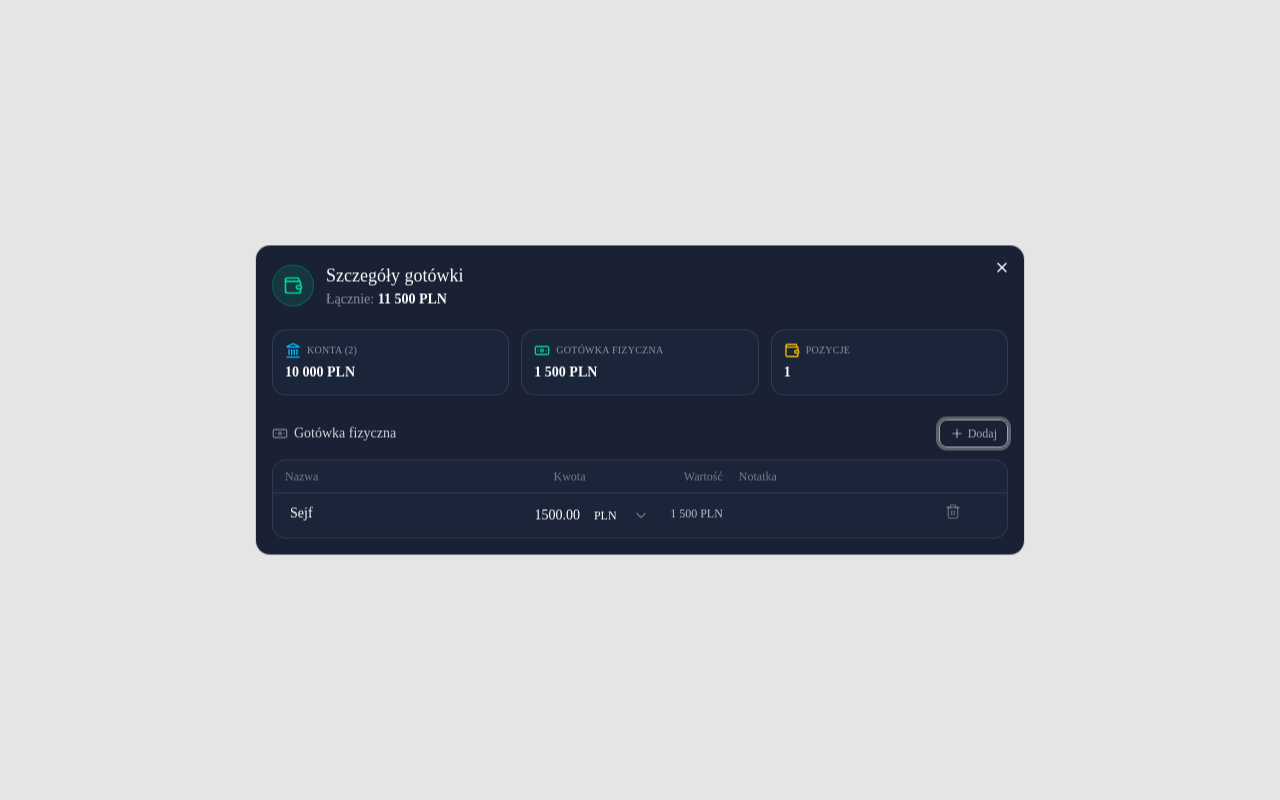
Test: CashDialog › shows the backend error on the row when saving fails
Replace the text in the field named "Kwota" with "10" at (535, 516), box [485,502,585,530]
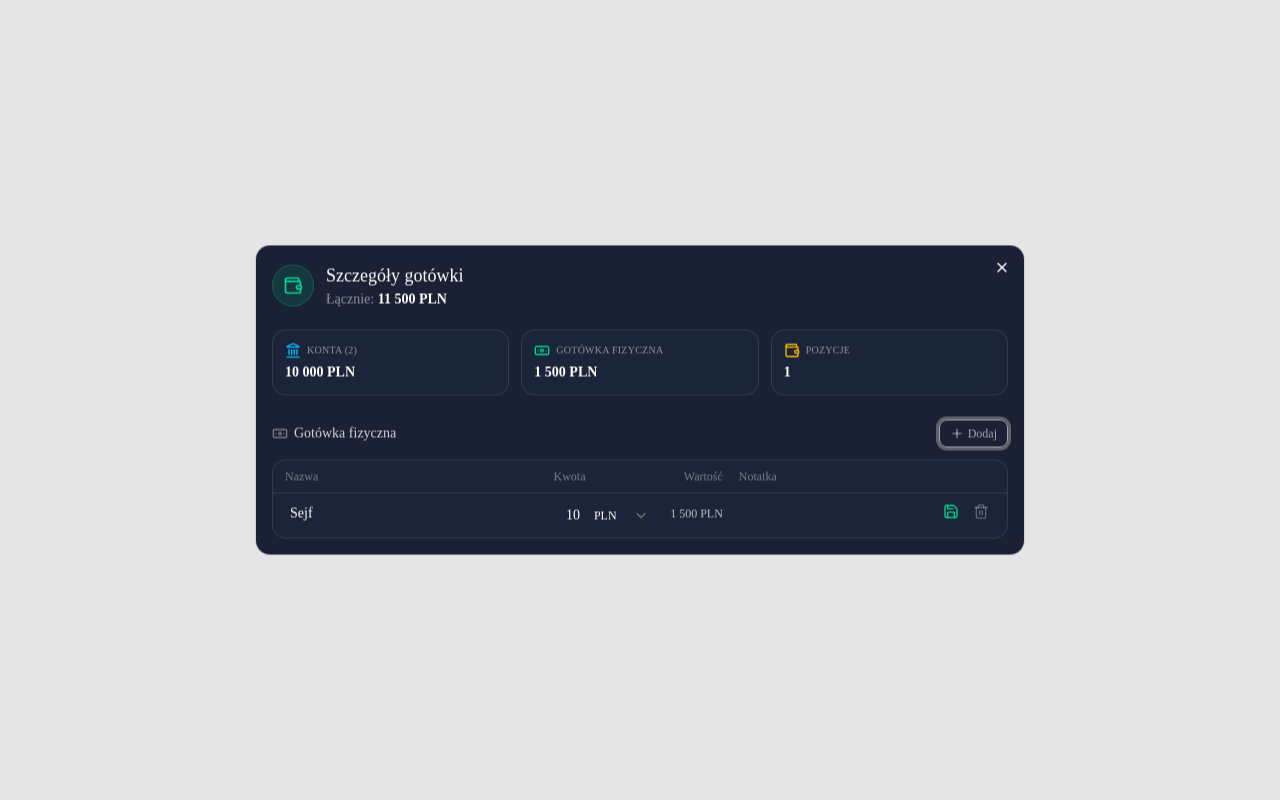
Click the button named "Zapisz zmiany" at (951, 512), box [939,500,963,524]
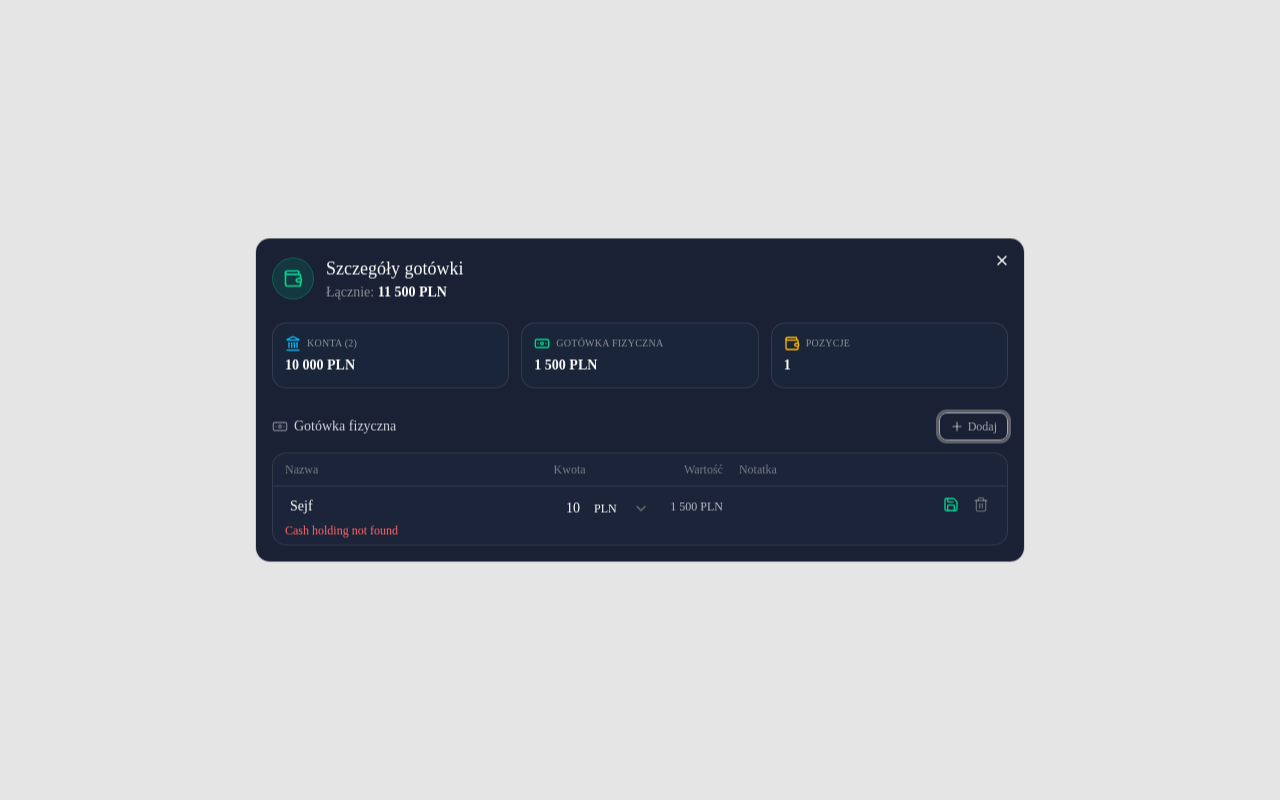
Expected: the text "Cash holding not found" is shown, [285,524,398,538]
